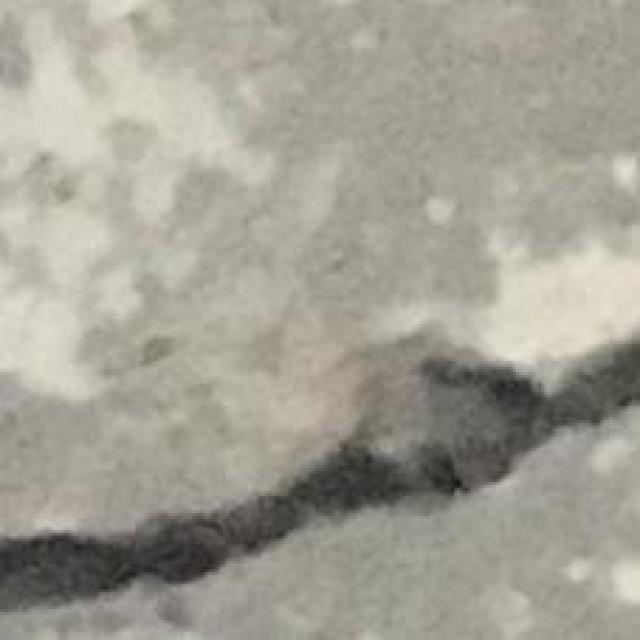Crack: (3, 336, 640, 618)
